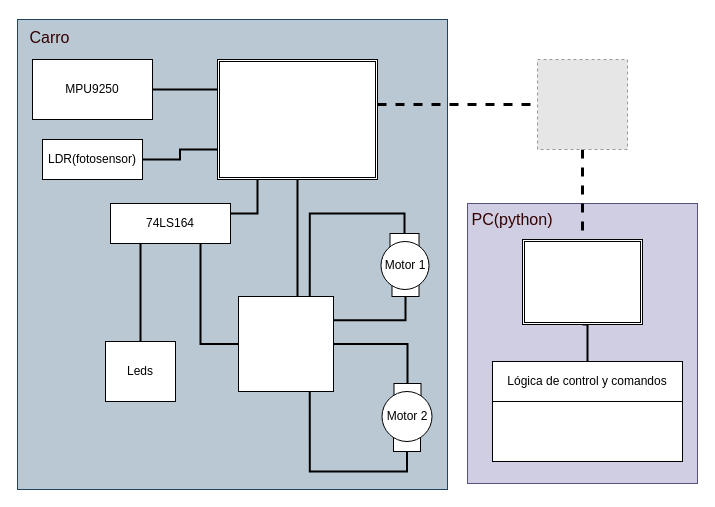
The diagram is 715 pixels wide and 507 high, and some of its shapes have lost their labels. Grey dashed boxes stand in for pictures. The box of each missing label's shape, as (x1, y1, x2, y2) in pixels:
Interfaz de usuario: (492, 400, 682, 462)
L298N: (238, 296, 334, 392)
NodeMCU (Socket servidor): (216, 58, 378, 180)
Socket Cliente: (522, 238, 642, 324)
